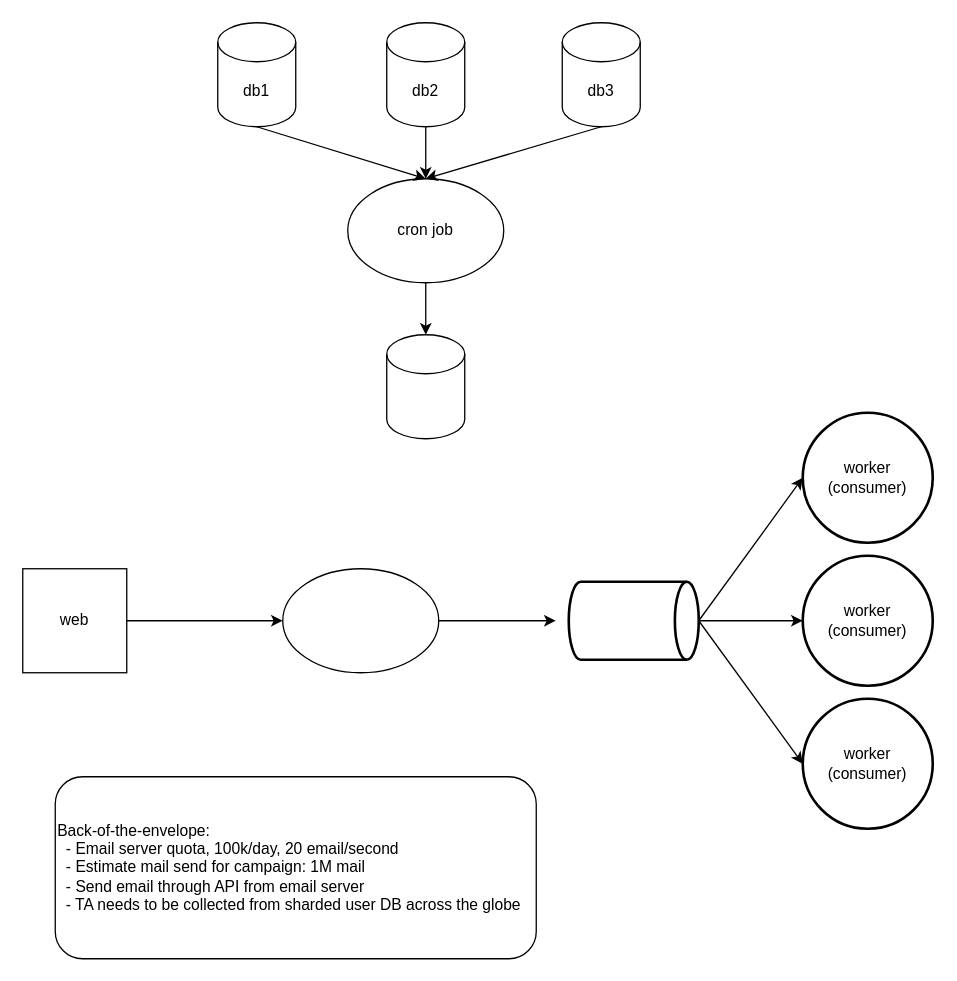
The diagram is 957 pixels wide and 981 high, and some of its shapes have lost their labels. Here are the shapes that lost their labels. From the top down, the centre of each, then its label:
At (x=425, y=386): "db c".
At (x=360, y=620): "web server (producer)".
At (x=633, y=620): "queue".
